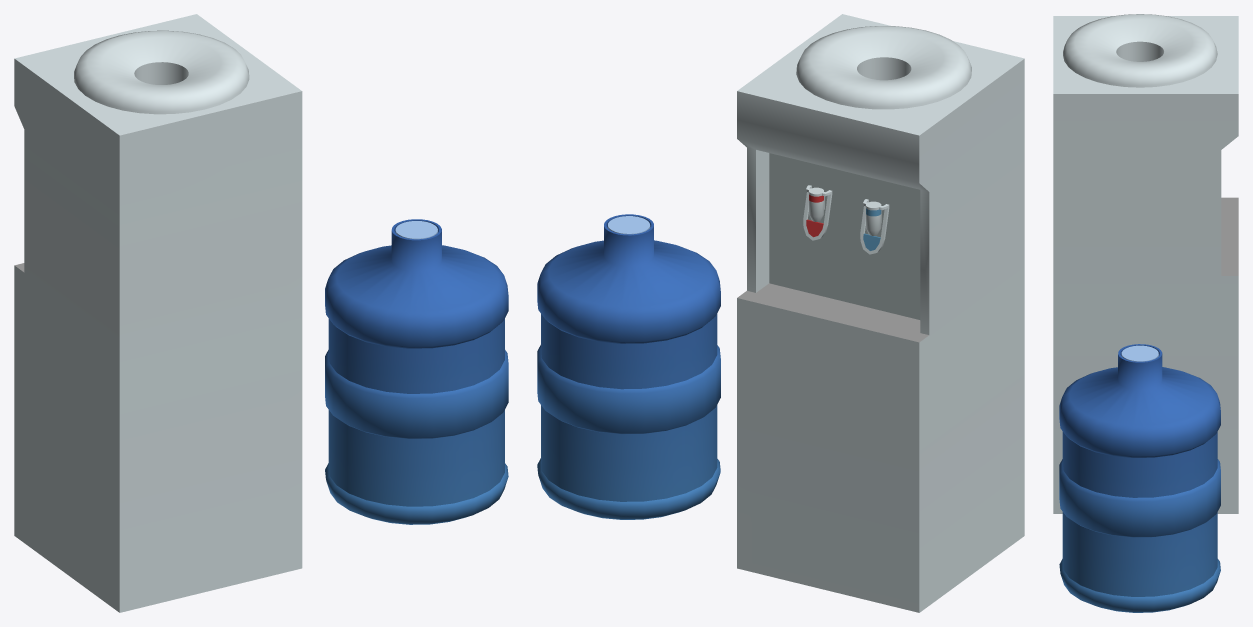
File: waterCooler.fbx
The picture shows the model from 3 angles, left to right: view 1: azimuth 30°, elevation 25°; view 2: azimuth 150°, elevation 25°; view 3: azimuth 270°, elevation 25°; orthographic projection. The views are drawn at different scales.
Visible parts, largest first — view 1: waterCooler, gallonWater; view 2: waterCooler, gallonWater, waterCooler_Dispenser_Hot_Handle, waterCooler_Dispenser_Cold_Handle, water; view 3: waterCooler, gallonWater, water.
Part boxes in pixels (left/top/right/bottom): waterCooler: left=14, top=14, right=302, bottom=612; gallonWater: left=325, top=219, right=508, bottom=524; waterCooler: left=737, top=14, right=1024, bottom=612; gallonWater: left=537, top=214, right=720, bottom=519; waterCooler_Dispenser_Hot_Handle: left=803, top=185, right=832, bottom=240; waterCooler_Dispenser_Cold_Handle: left=860, top=199, right=889, bottom=254; water: left=608, top=216, right=650, bottom=234; waterCooler: left=1053, top=14, right=1238, bottom=513; gallonWater: left=1059, top=344, right=1220, bottom=612; water: left=1121, top=345, right=1158, bottom=361.
Size of the model in its own units: 3.74 by 1.6 by 4.12.
